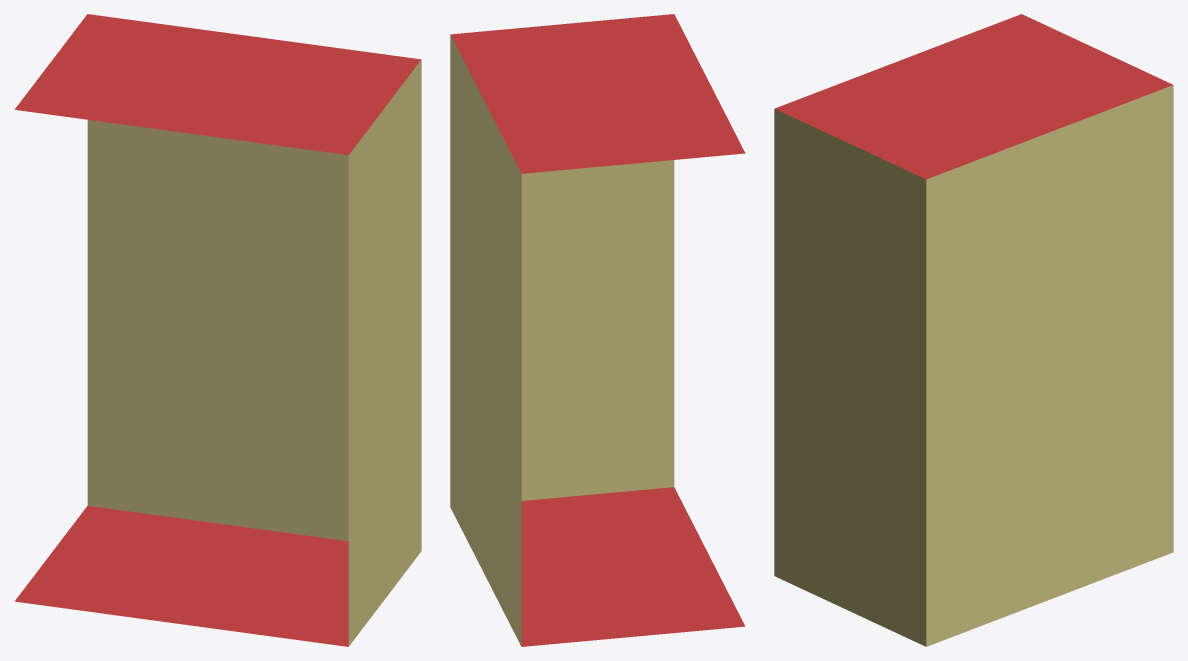
3 views of the same model, side by side, from view 1: azimuth 30°, elevation 25°; view 2: azimuth 150°, elevation 25°; view 3: azimuth 270°, elevation 25° (orthographic). The views are drawn at different scales.
Parts seen in each view (by area): view 1: group_4, group_3, group_5; view 2: group_4, group_3, group_5; view 3: group_4, group_3.
Boxes of the visible parts, x1,y1,x2,y2 form: group_4: (87, 59, 421, 646); group_3: (14, 14, 421, 154); group_5: (14, 505, 348, 646); group_4: (450, 35, 674, 646); group_3: (450, 14, 745, 173); group_5: (521, 487, 745, 646); group_4: (774, 85, 1173, 646); group_3: (775, 14, 1172, 179).
Size of the model in its own units: 5.8 by 5.91 by 7.64.
